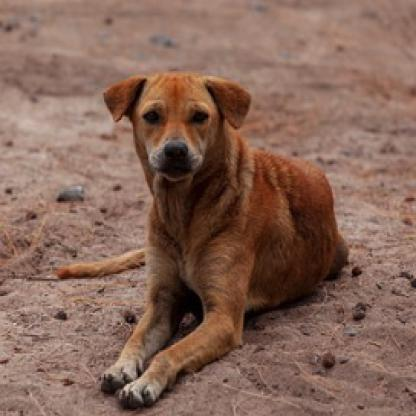dog: (103, 40, 320, 362)
